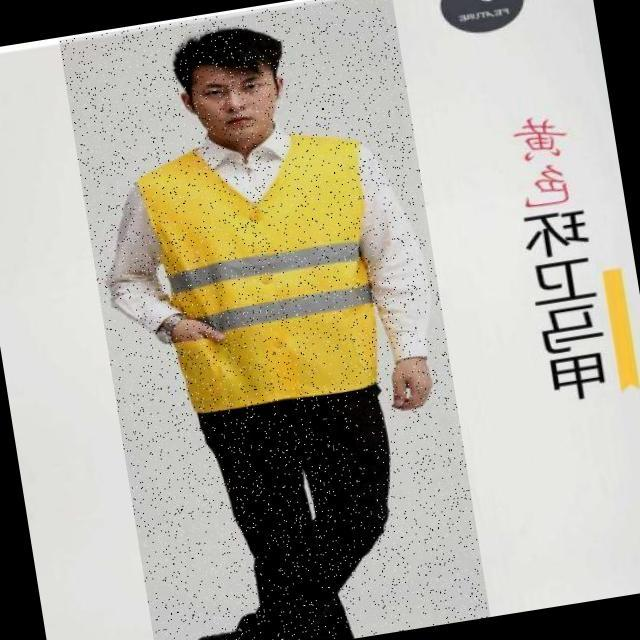Person: (71, 4, 477, 640)
Safety Vest: (133, 114, 397, 420)
bare-arms: (159, 309, 223, 369), (383, 360, 448, 419)
no-helmet: (165, 14, 288, 87)
